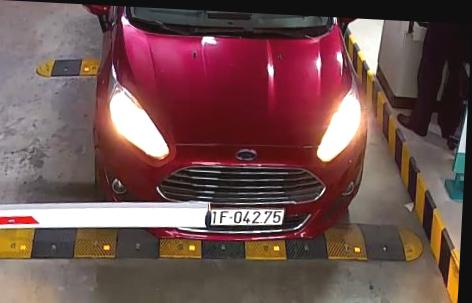License_Plate: (193, 204, 288, 233)
